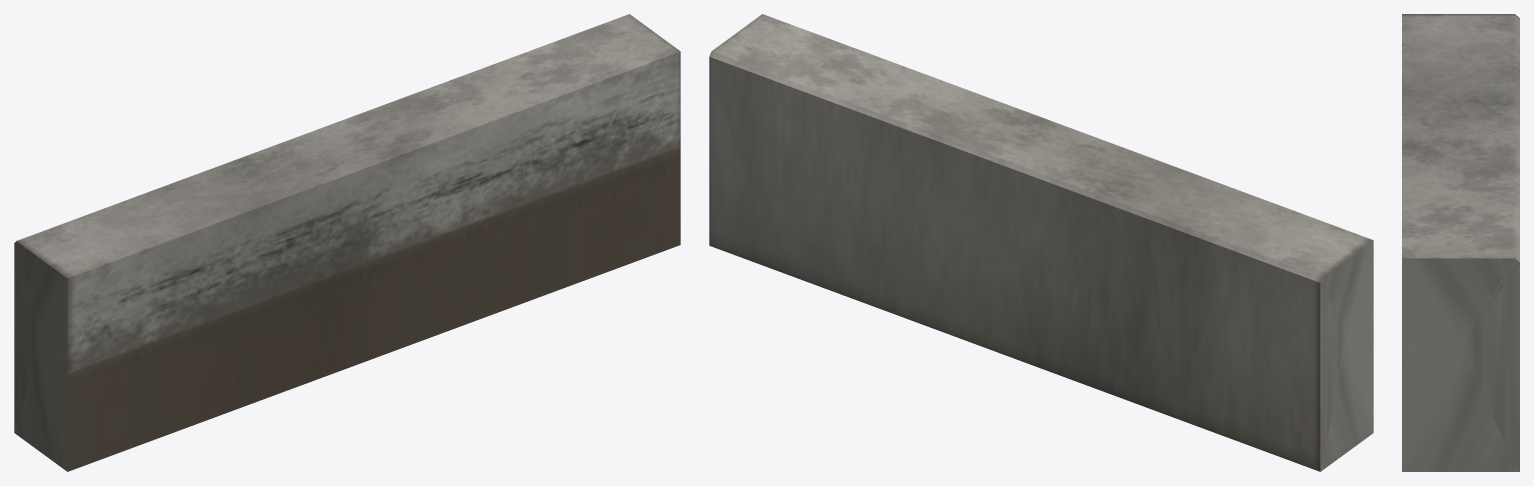
The model's file is curb_ramp_up_lod2_web.glb.
3 renders of one model, left to right at view 1: azimuth 30°, elevation 25°; view 2: azimuth 150°, elevation 25°; view 3: azimuth 270°, elevation 25°, orthographic. The views are drawn at different scales.
Parts seen in each view (by area): view 1: curb_ramp_up_Mesh; view 2: curb_ramp_up_Mesh; view 3: curb_ramp_up_Mesh.
Boxes of the visible parts, <box> form: curb_ramp_up_Mesh: <box>14,14,680,471</box>; curb_ramp_up_Mesh: <box>709,14,1373,471</box>; curb_ramp_up_Mesh: <box>1402,14,1519,471</box>.
Bounding box in the file's own units: 0.995 × 0.42 × 0.15.
Materials: 1 (1 with a texture image).
